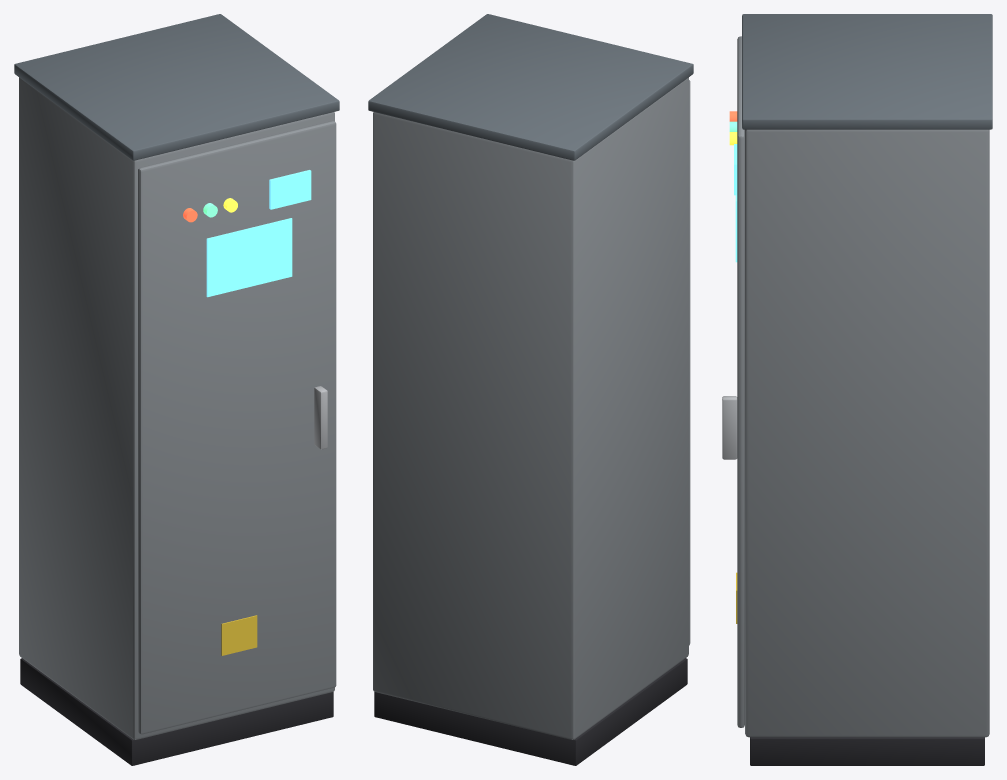
The model's file is switchgear.glb.
The picture shows the model from 3 angles, left to right: view 1: azimuth 30°, elevation 25°; view 2: azimuth 150°, elevation 25°; view 3: azimuth 270°, elevation 25°; orthographic projection. The views are drawn at different scales.
Visible parts, largest first — view 1: Cube.015, Cube; view 2: Cube, Cube.015; view 3: Cube, Cube.015.
Part boxes in pixels (x1,y1,x2,y2): Cube.015: (138, 121, 336, 734); Cube: (14, 14, 339, 765); Cube: (368, 14, 693, 765); Cube.015: (689, 80, 690, 645); Cube: (742, 14, 992, 765); Cube.015: (722, 36, 744, 727).
Size of the model in its own units: 0.8199 by 2.34 by 0.8849.
